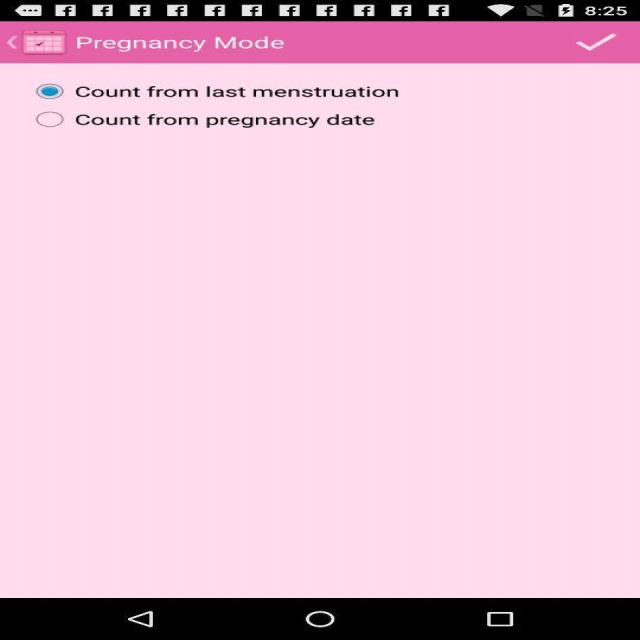button: (543, 20, 640, 62), (19, 77, 72, 136), (15, 106, 77, 134), (2, 26, 20, 60)
icon: (24, 25, 76, 60)
text: (76, 78, 415, 138)
